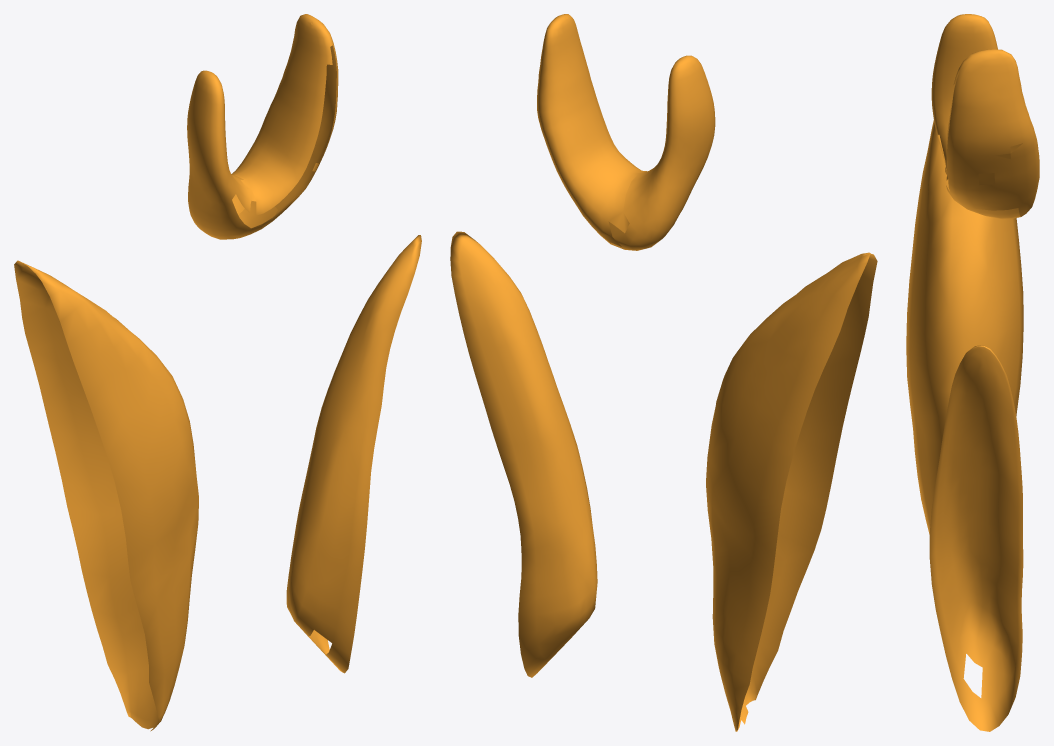
The model's file is plaque_new.fbx.
3 renders of one model, left to right at view 1: azimuth 30°, elevation 25°; view 2: azimuth 150°, elevation 25°; view 3: azimuth 270°, elevation 25°, orthographic.
Parts seen in each view (by area): view 1: model_2, model_1, model_3.2, model_3.1; view 2: model_2, model_1, model_3.2, model_3.1; view 3: model_1, model_2, model_3.2, model_3.1.
Boxes of the visible parts, left/top/right/bottom form: model_2: left=14, top=260, right=198, bottom=731; model_1: left=286, top=235, right=421, bottom=673; model_3.2: left=231, top=14, right=338, bottom=232; model_3.1: left=187, top=22, right=315, bottom=239; model_2: left=706, top=252, right=877, bottom=731; model_1: left=450, top=231, right=597, bottom=677; model_3.2: left=537, top=14, right=646, bottom=246; model_3.1: left=565, top=17, right=715, bottom=250; model_1: left=929, top=345, right=1023, bottom=731; model_2: left=906, top=120, right=1023, bottom=534; model_3.2: left=945, top=49, right=1039, bottom=216; model_3.1: left=931, top=14, right=1022, bottom=219.
Bounding box in the file's own units: 30.49 × 47.62 × 8.55.
